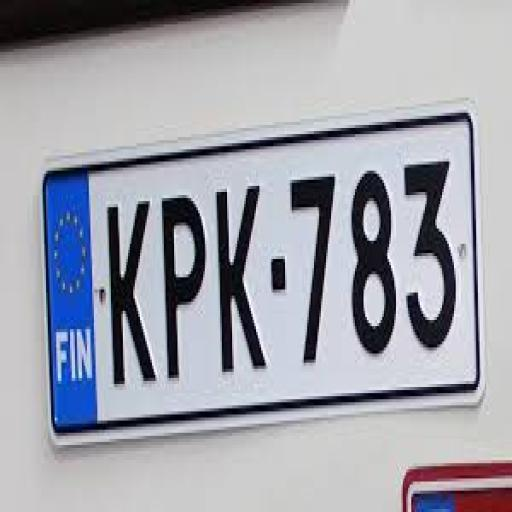3: (399, 162, 456, 354)
7: (290, 182, 336, 361)
8: (346, 176, 394, 368)
K: (213, 184, 268, 372), (105, 206, 154, 392)
P: (160, 195, 205, 387)
